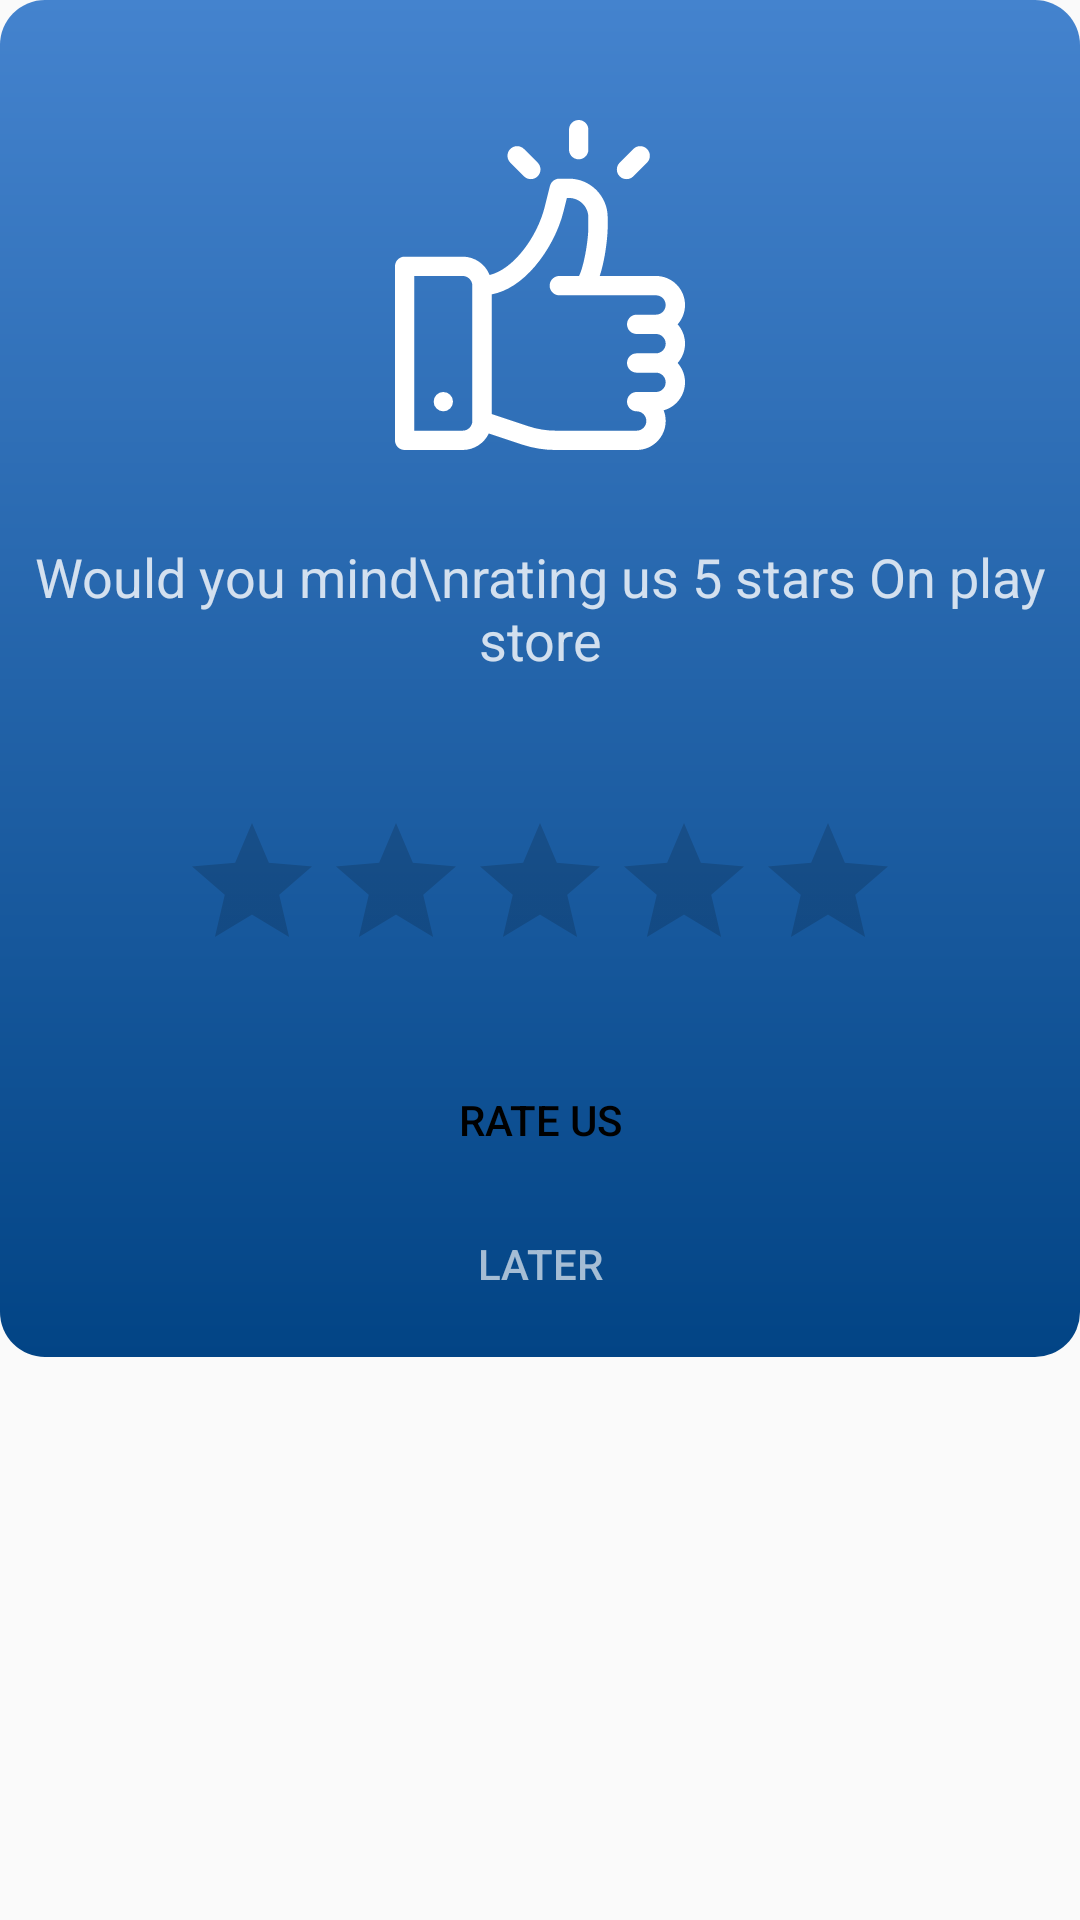

Icon bounding boxes for this 1080*1920 phone screenshot, format (x1, y1, x2, y2):
like: (375, 120, 705, 450)
